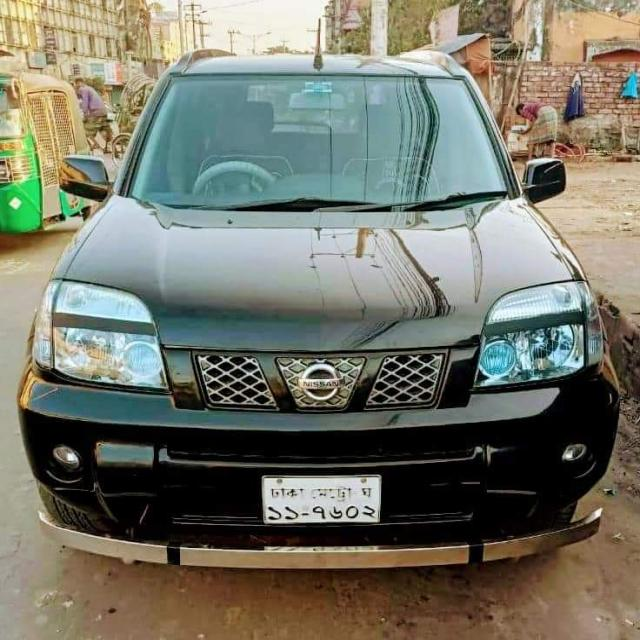black: (19, 50, 622, 558)
